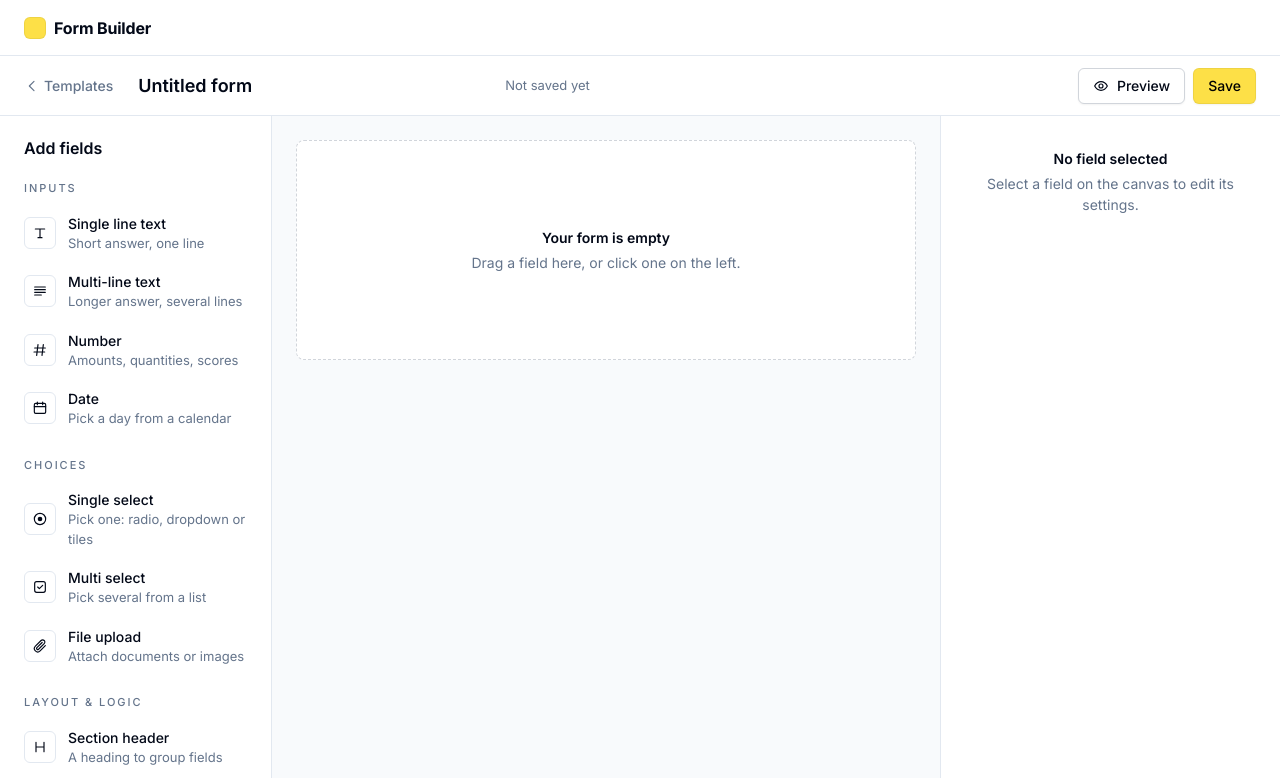
clicking a palette item adds the field, selects it, and opens its settings
Click the button "Single line text Short answer, one line". click: click(136, 233)
box: [16,204,255,261]
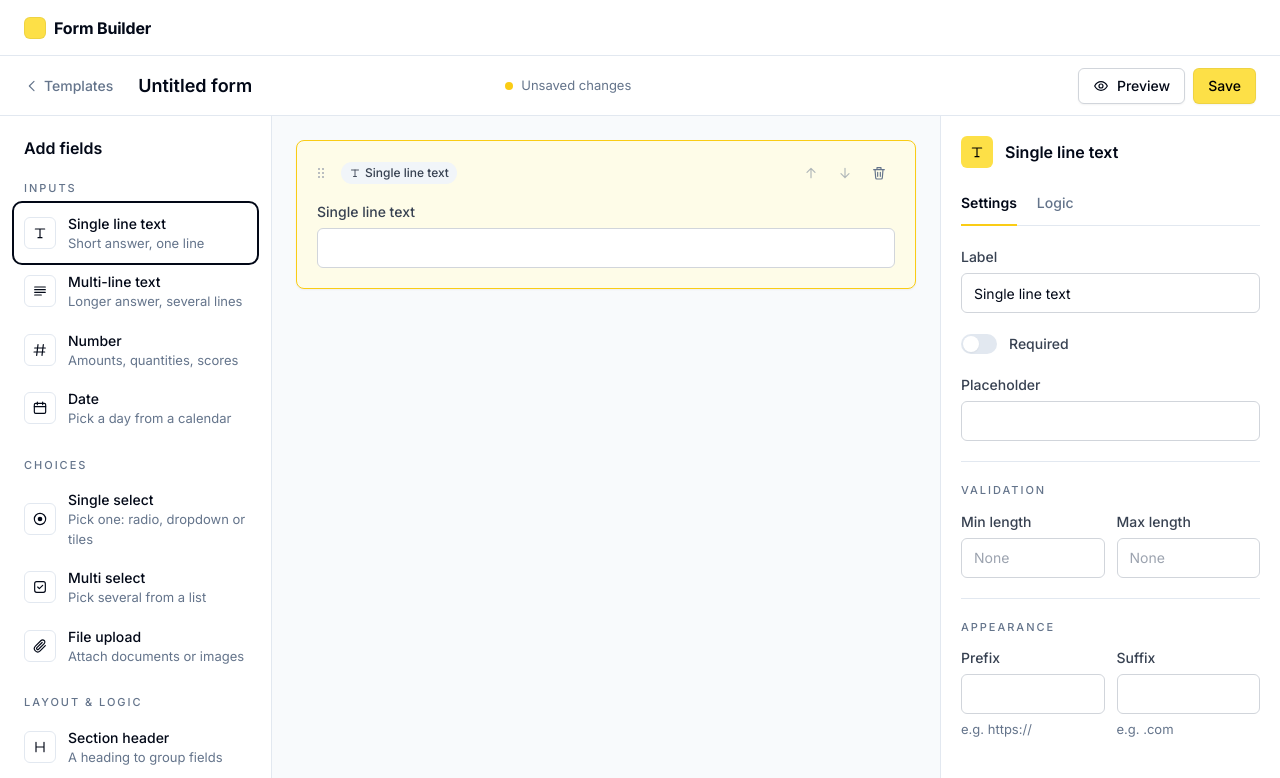
Expected: the button named "Single line text, Single line text" is shown, [297,141,915,288]
Expected: the field labelled "Label" holds "Single line text", [962,274,1259,312]
